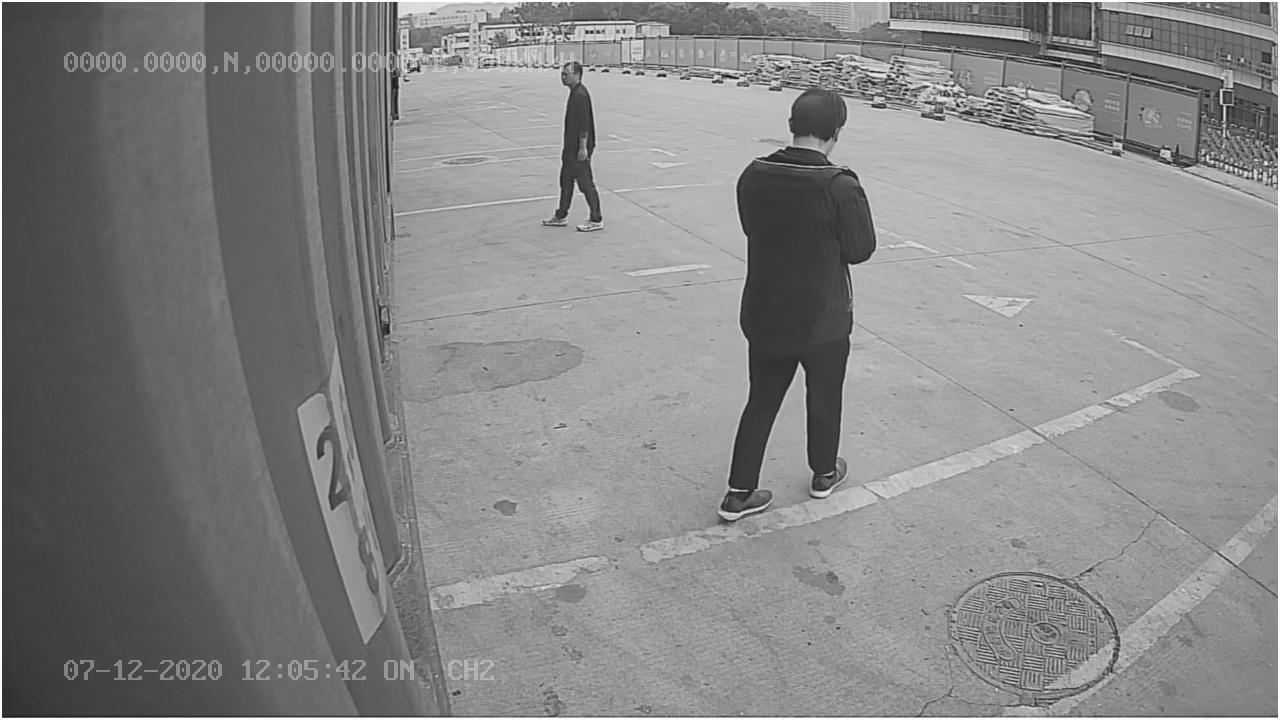person: (716, 83, 874, 523)
